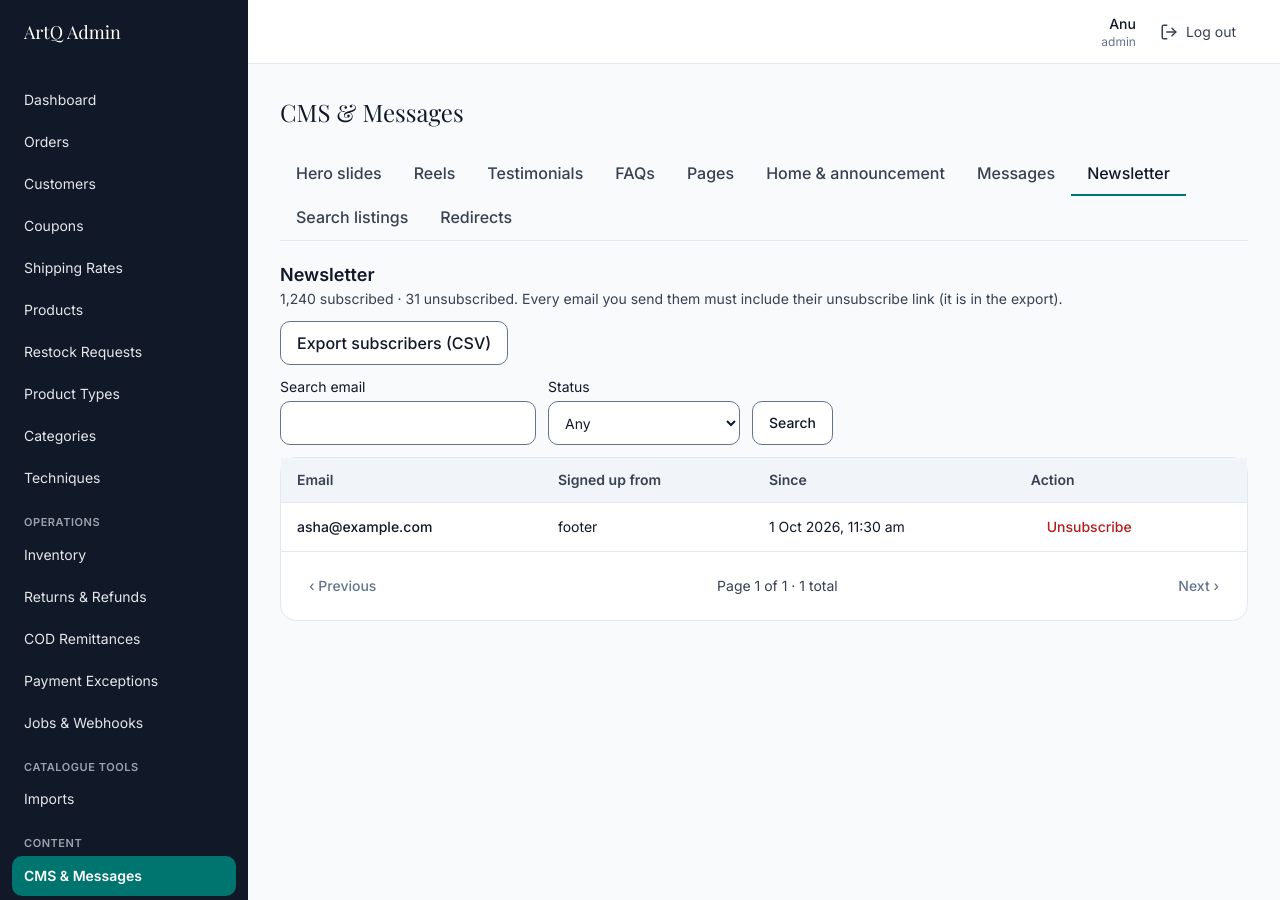
Test: newsletter › a refused unsubscribe is reported; the export asks for the password first, then saves the CSV
Click the button with aria-label "Unsubscribe asha@example.com". click: {"x": 1089, "y": 527}
box: [1031,505,1148,549]
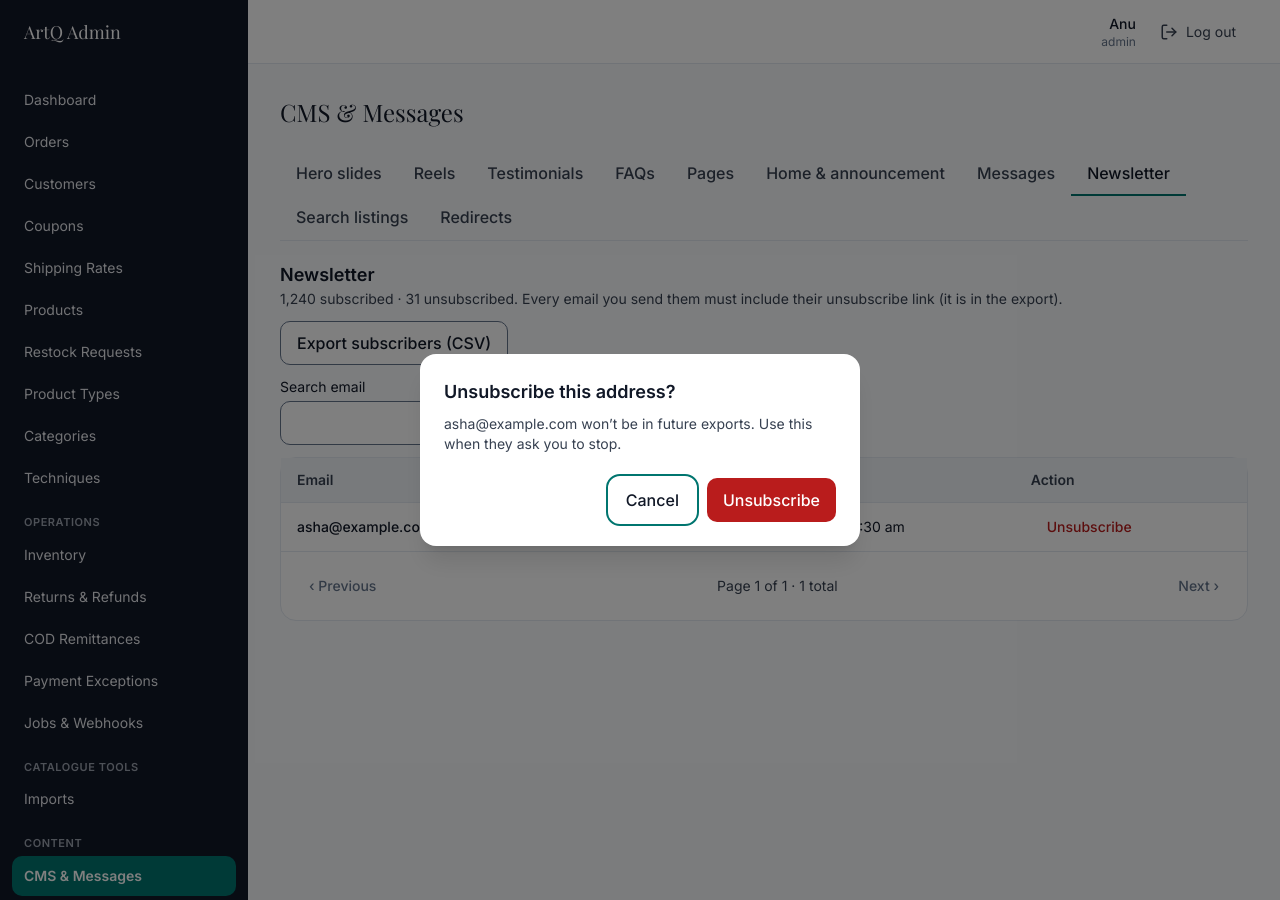
Click the button "Unsubscribe". click: {"x": 771, "y": 500}
box: [707,478,836,522]
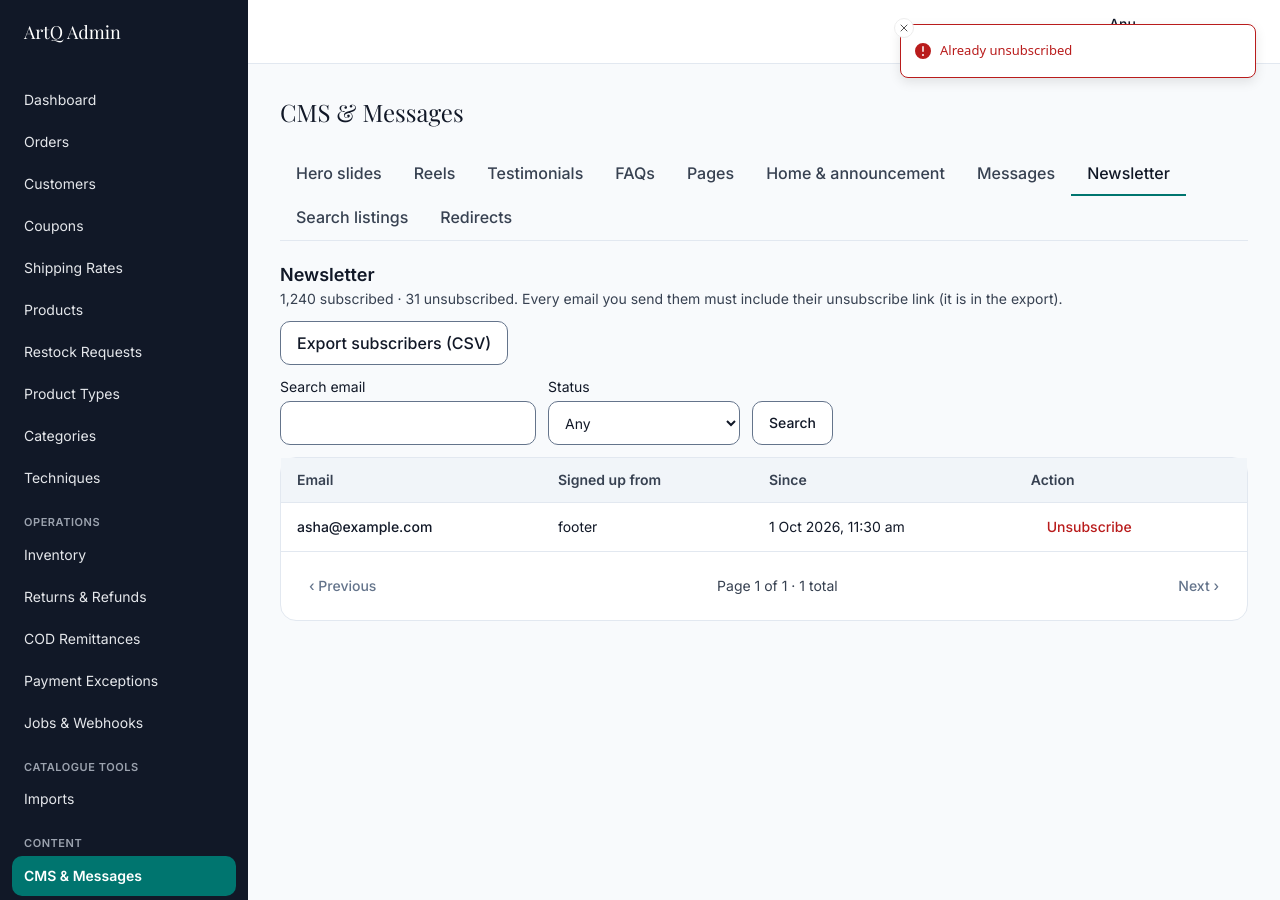
Now the text "Already unsubscribed" is shown, box [940,41,1072,60]
Click the button "Export subscribers (CSV)". click: {"x": 394, "y": 343}
box: [280,321,508,365]
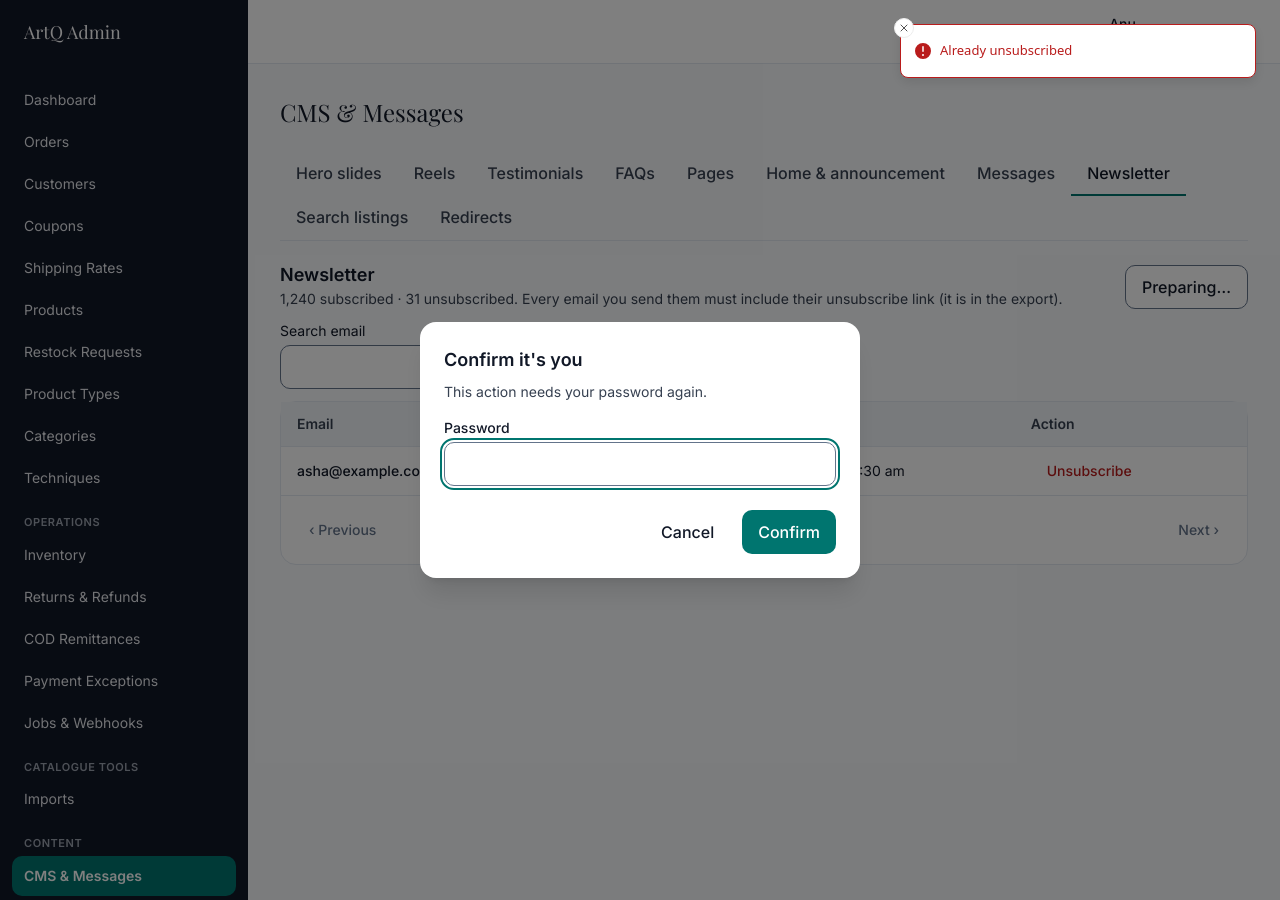
Type "my-password" into the password field labelled "Password". click: {"x": 640, "y": 464}
box: [444,442,836,486]
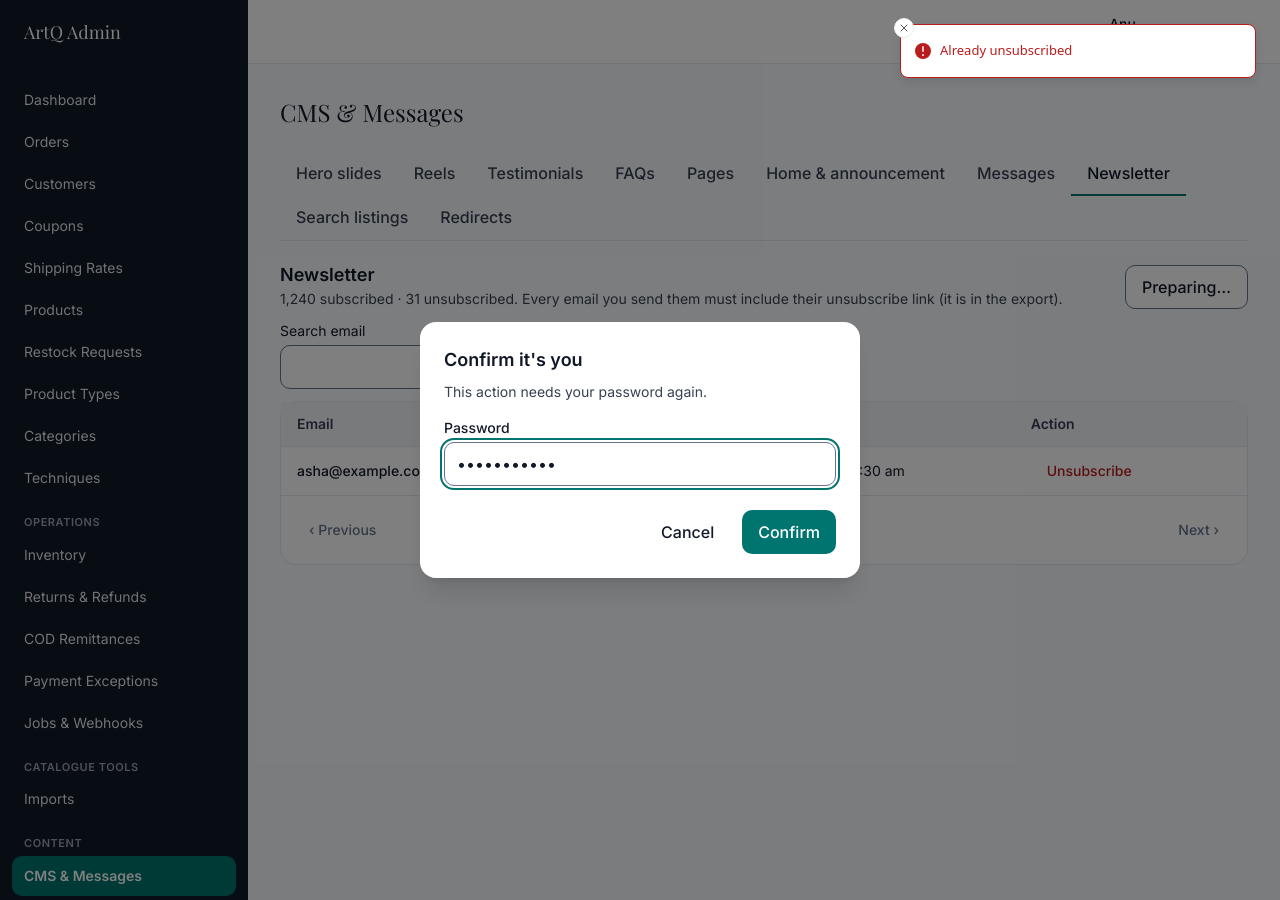
Click the button "Confirm". click: {"x": 789, "y": 532}
box: [742,510,836,554]
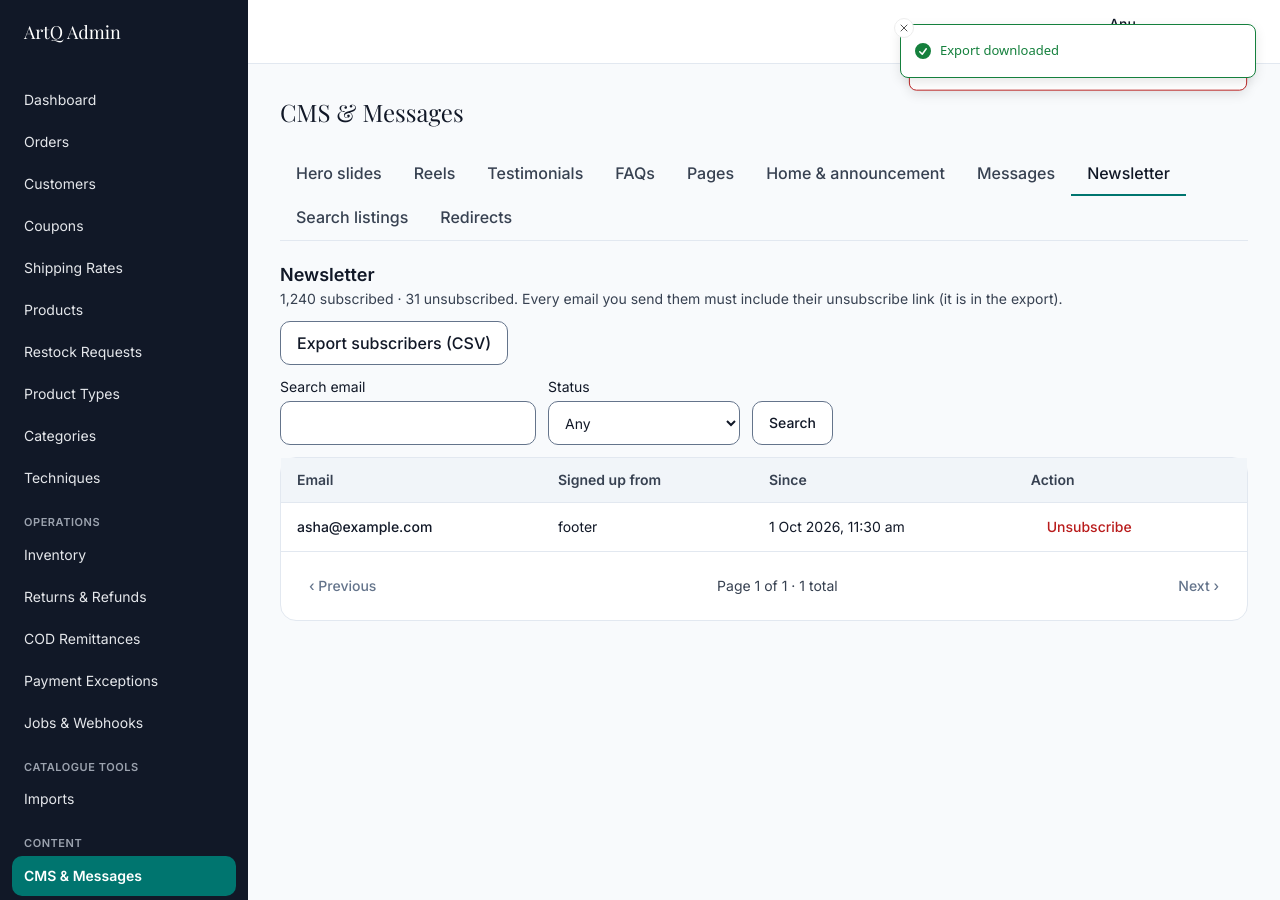
Now the text "Export downloaded" is shown, box [940,41,1059,60]
